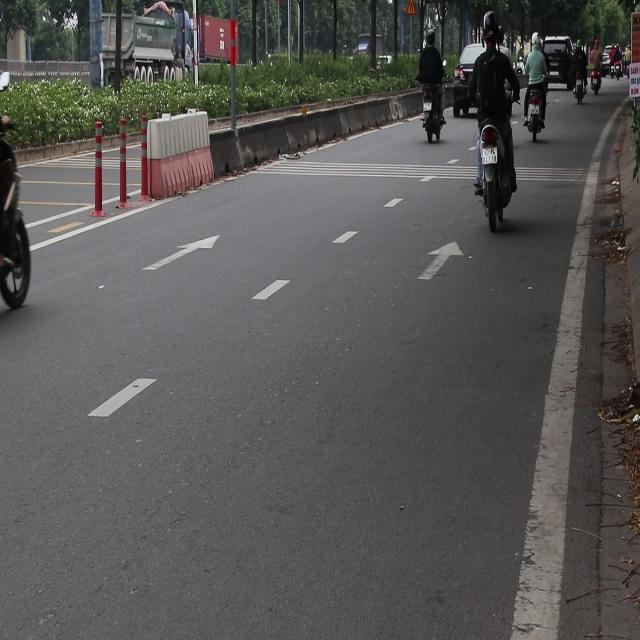car: (452, 38, 501, 124), (541, 34, 575, 88)
motorbike: (0, 120, 38, 317), (461, 123, 514, 226), (415, 79, 443, 139), (525, 86, 547, 144), (570, 58, 586, 109), (588, 57, 602, 98)
truck: (91, 0, 200, 99), (185, 0, 238, 108)
